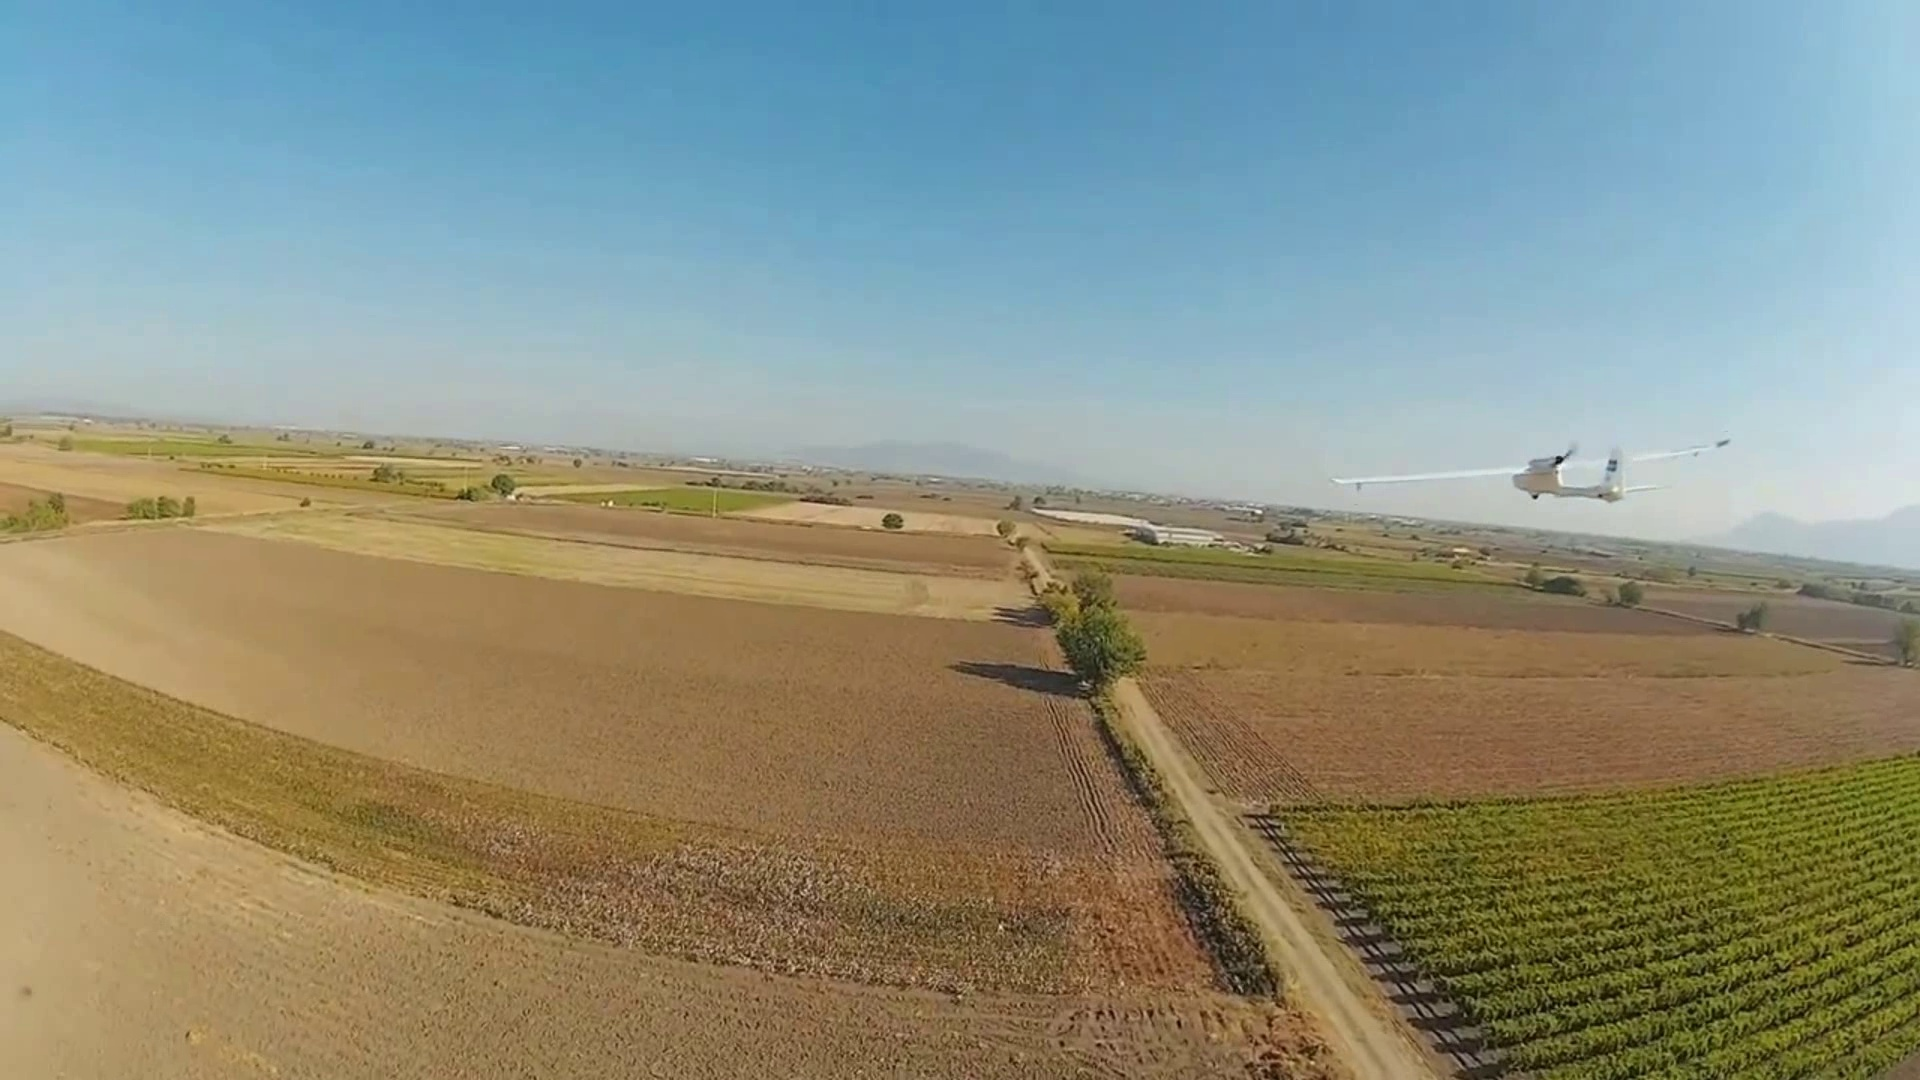airplane: (1512, 431, 1735, 507)
